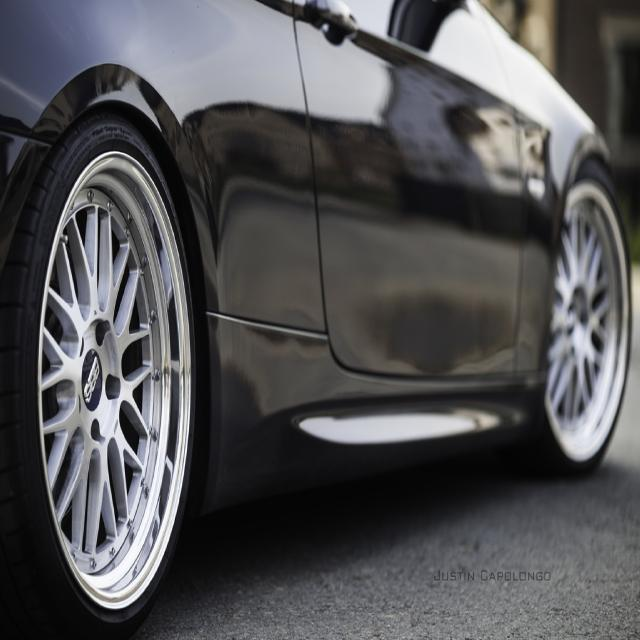car: (34, 10, 631, 595)
